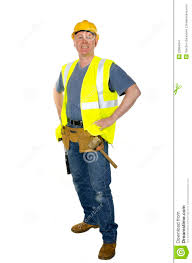hard hat: (70, 21, 100, 36)
high-vis: (55, 57, 118, 142)
